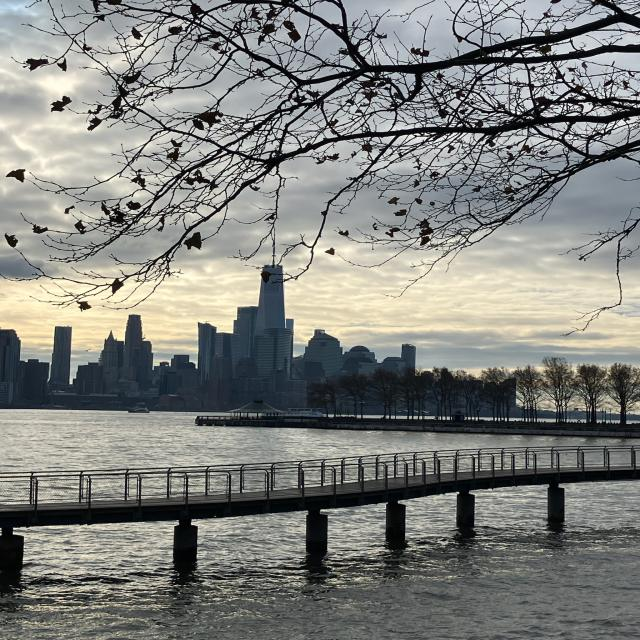WTC: (256, 249, 289, 330)
